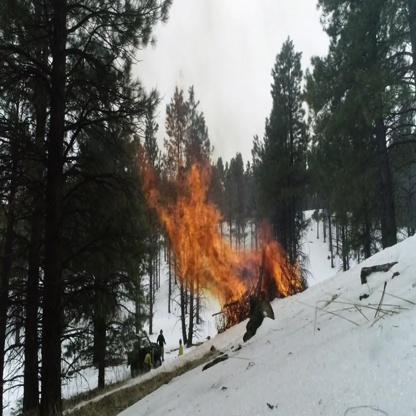Fire: (131, 132, 308, 327)
